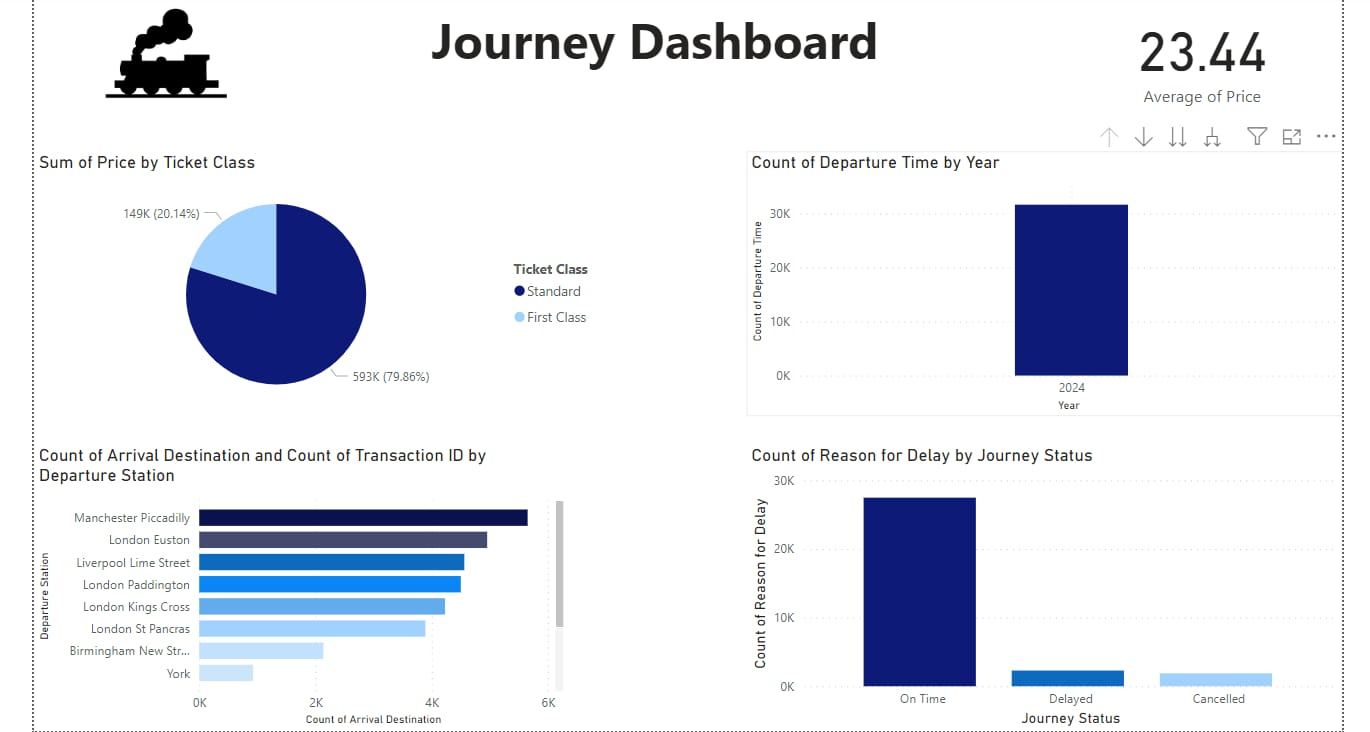

The page's visual inventory and layout, read from the dashboard file:
{"tool":"powerbi","page":{"name":"Page 1","canvas":[1280,720],"ordinal":0},"visuals":[{"type":"clusteredBarChart","fields":{"Category":["railway (1).Departure Station"],"Y":["CountNonNull(railway (1).Arrival Destination)"]},"box":[0,440.5,522.8,279.9],"z":0},{"type":"columnChart","fields":{"Category":["railway (1).Date of Journey.Variation.Date Hierarchy.Year","railway (1).Date of Journey.Variation.Date Hierarchy.Quarter","railway (1).Date of Journey.Variation.Date Hierarchy.Month","railway (1).Date of Journey.Variation.Date Hierarchy.Day"],"Y":["CountNonNull(railway (1).Departure Time)"]},"box":[697.1,152.3,583.2,259.3],"z":1000},{"type":"pieChart","fields":{"Y":["Sum(railway (1).Price)"],"Category":["railway (1).Ticket Class"]},"box":[0,152.3,564,259.3],"z":2000},{"type":"clusteredColumnChart","fields":{"Category":["railway (1).Journey Status"],"Y":["CountNonNull(railway (1).Reason for Delay)"]},"box":[697.1,440.5,583.2,279.9],"z":3000},{"type":"textbox","box":[0,0,901.5,119.4],"z":4000},{"type":"card","fields":{"Values":["Avg(railway (1).Price)"]},"box":[1004.5,0,275.8,119.4],"z":5000},{"type":"image","box":[0,0,262.1,119.4],"z":6000}]}

Visuals, with their boxes on the page's 1280x720 design canvas (x1, y1, x2, y2). These are canvas units, not pixel positions in the 1370x732 screenshot, which may show the page scaled, cropped or inside an application window:
clusteredBarChart - railway (1).Departure Station x CountNonNull(railway (1).Arrival Destination): box=[0, 440, 523, 720]
columnChart - railway (1).Date of Journey.Variation.Date Hierarchy.Year x railway (1).Date of Journey.Variation.Date Hierarchy.Quarter: box=[697, 152, 1280, 412]
pieChart - Sum(railway (1).Price) x railway (1).Ticket Class: box=[0, 152, 564, 412]
clusteredColumnChart - railway (1).Journey Status x CountNonNull(railway (1).Reason for Delay): box=[697, 440, 1280, 720]
textbox: box=[0, 0, 902, 119]
card - Avg(railway (1).Price): box=[1004, 0, 1280, 119]
image: box=[0, 0, 262, 119]
